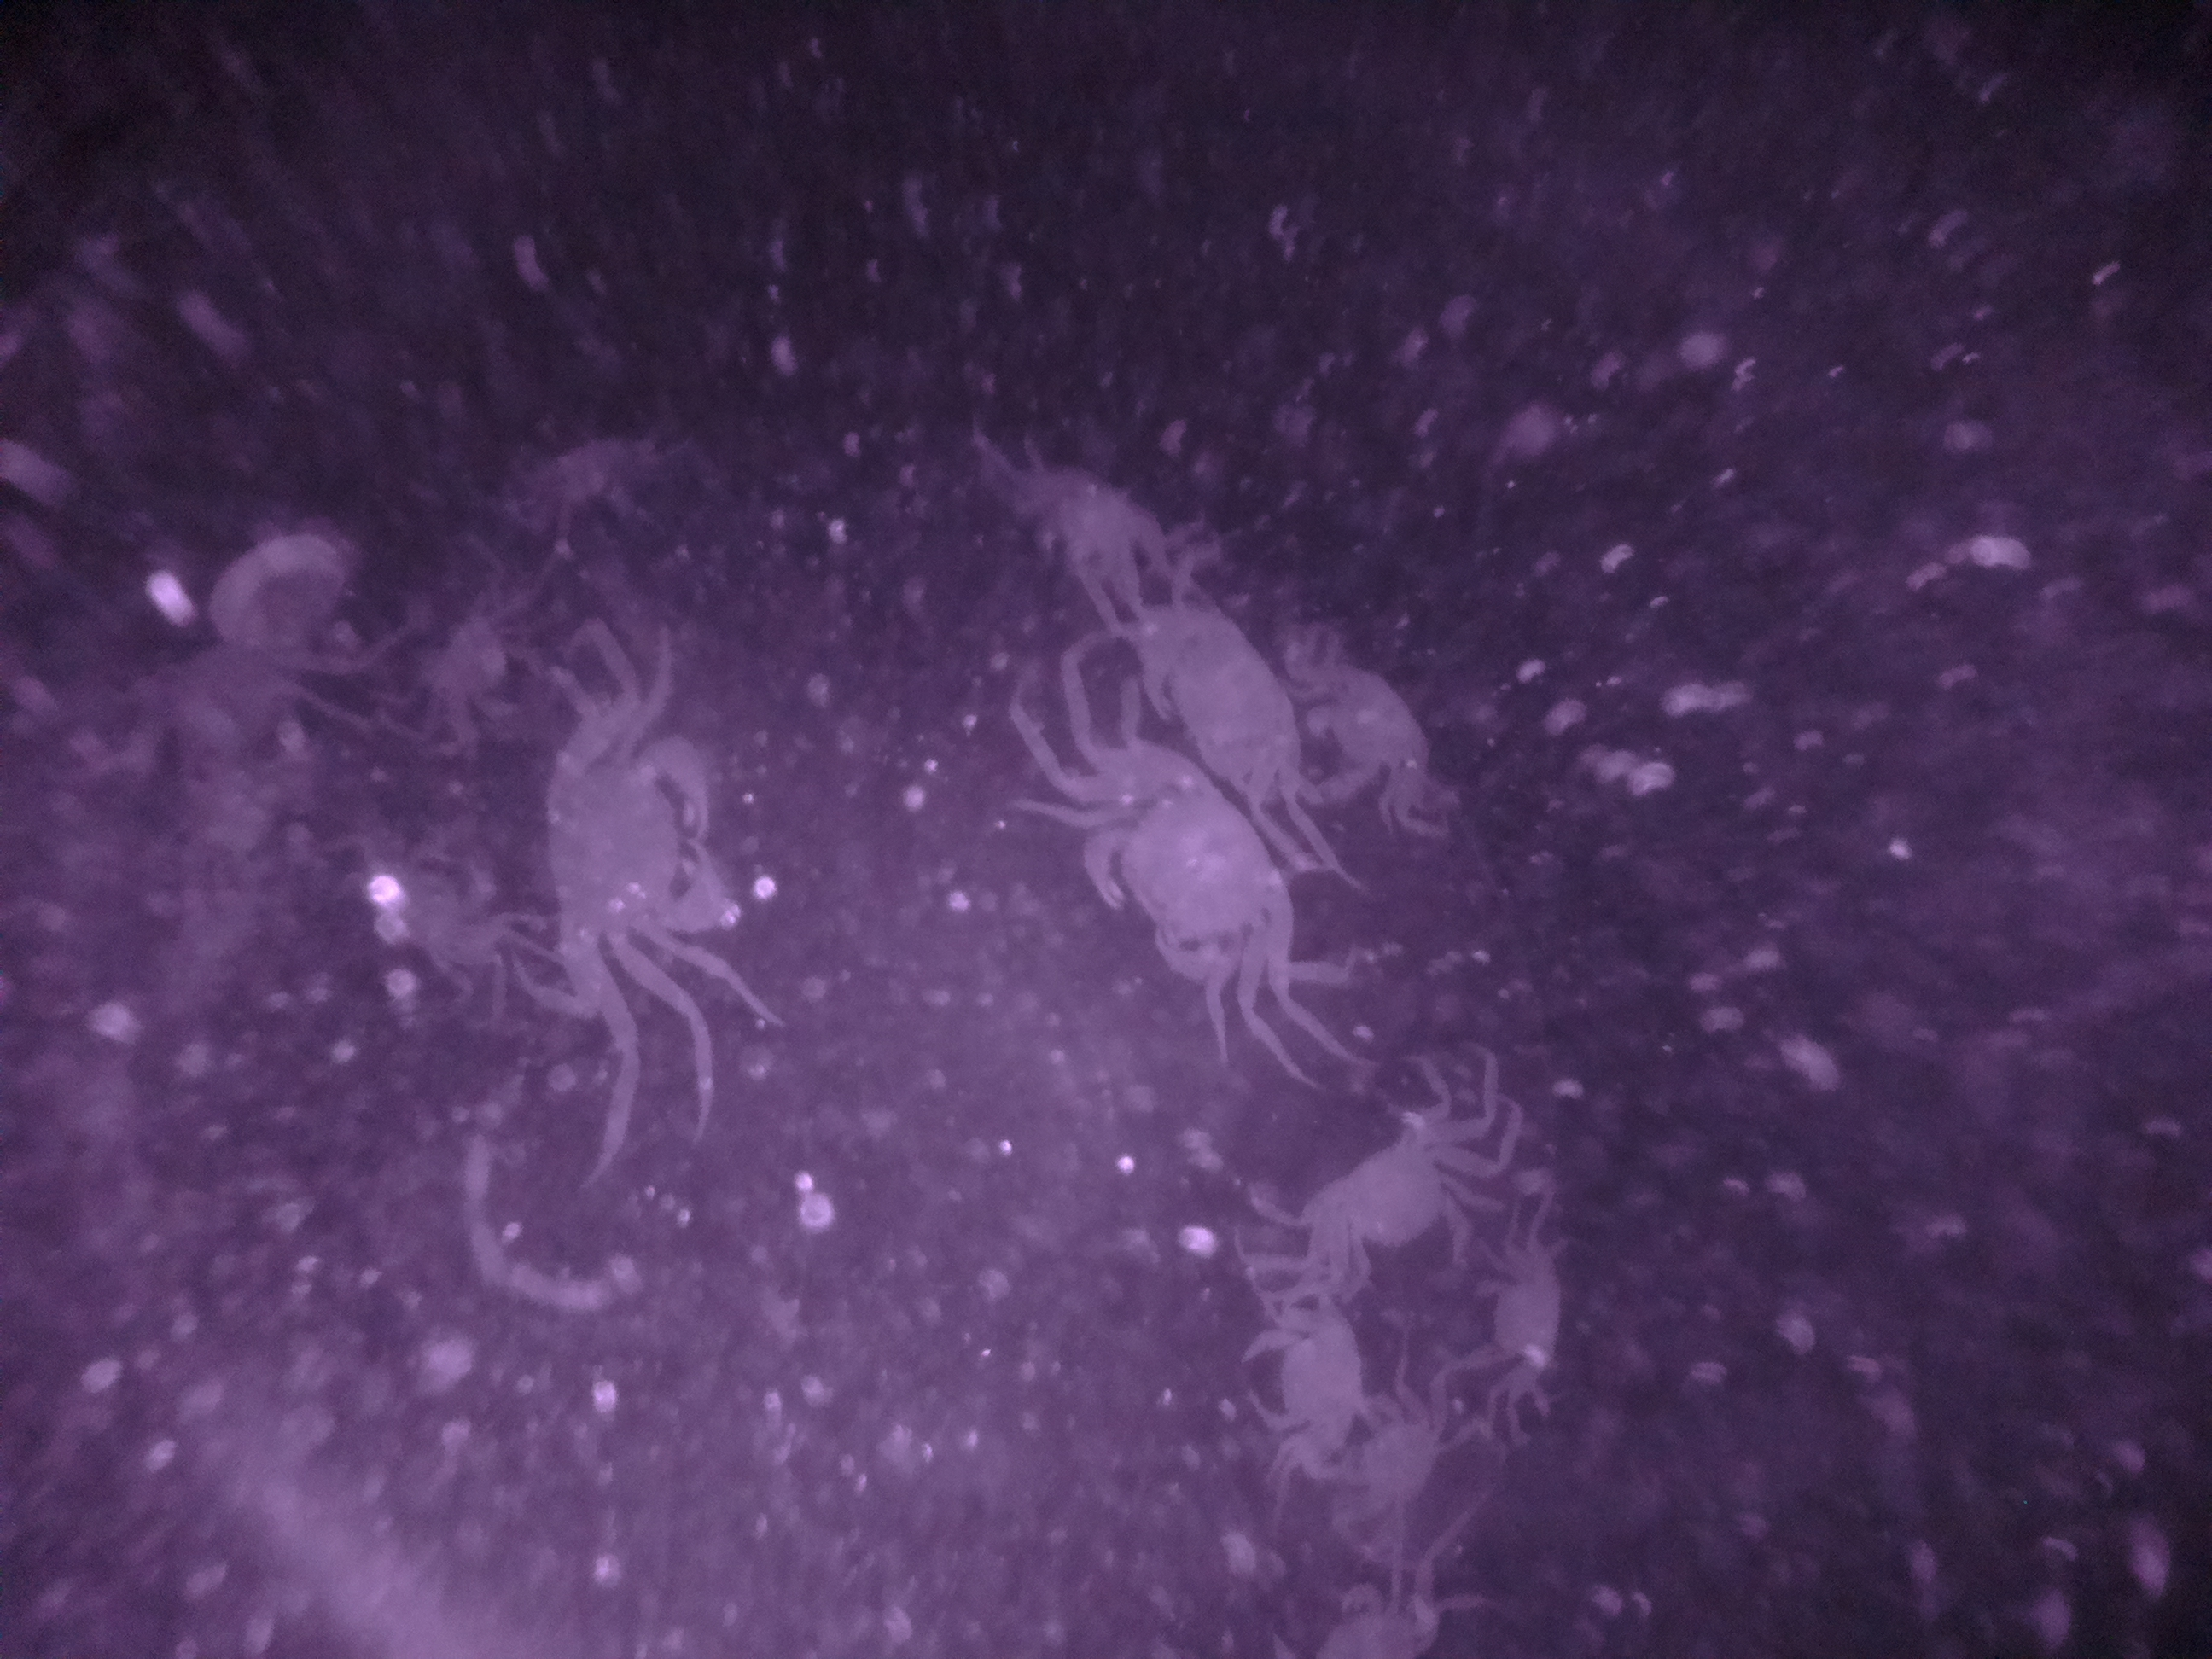Crab: (512, 711, 770, 978), (1059, 732, 1299, 997), (1301, 1112, 1489, 1286), (1223, 1295, 1379, 1460), (1291, 659, 1468, 802), (1463, 1227, 1599, 1410)
